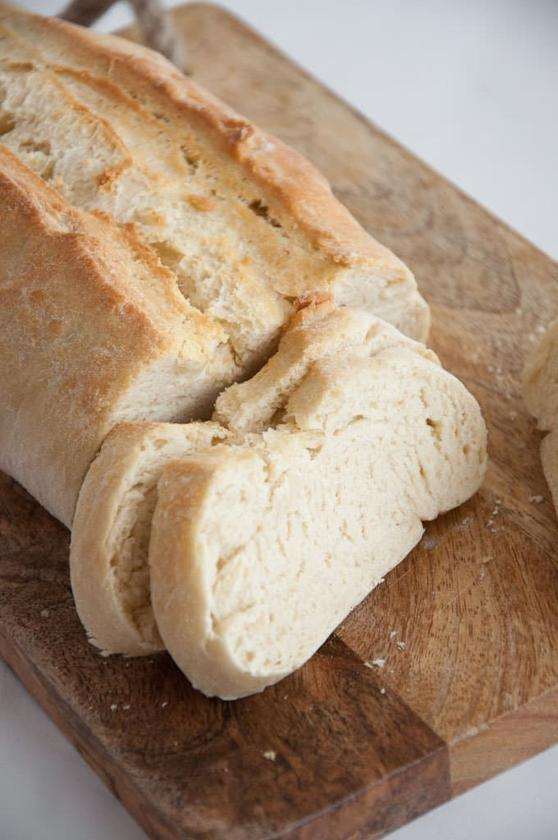white_bread: (3, 4, 512, 726)
